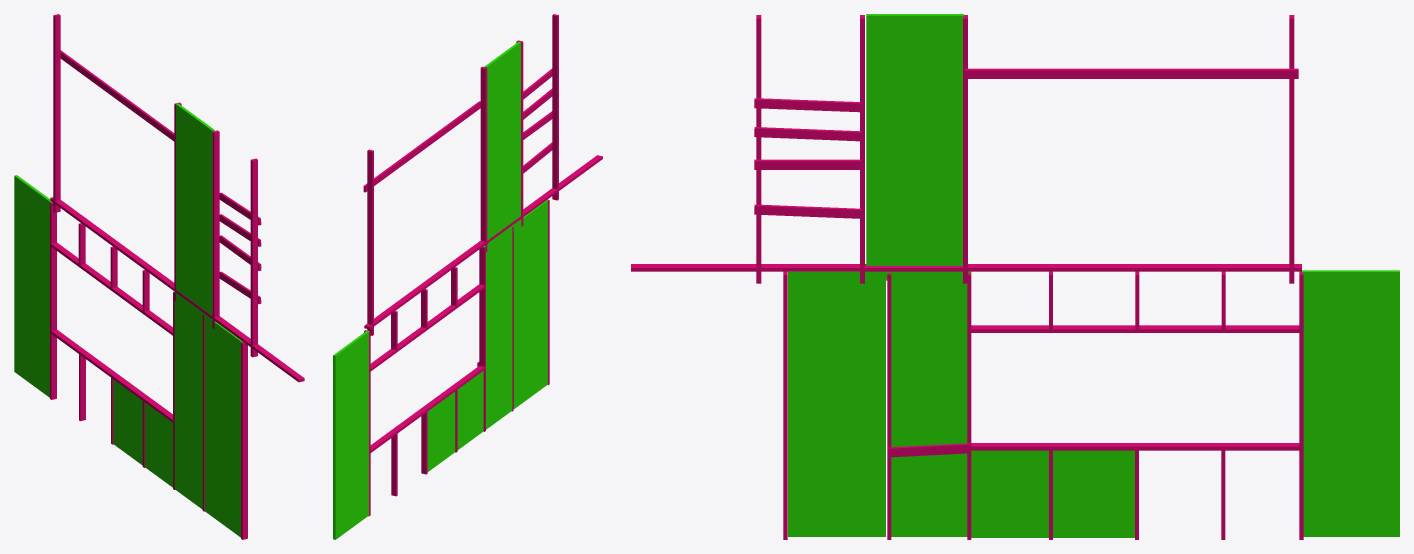
The model's file is BH04B_Wall_04_Break_B.fbx.
3 renders of one model, left to right at view 1: azimuth 30°, elevation 25°; view 2: azimuth 150°, elevation 25°; view 3: azimuth 270°, elevation 25°, orthographic. The views are drawn at different scales.
Visible parts, largest first — view 1: BH04B_Wall_04_Break_B; view 2: BH04B_Wall_04_Break_B; view 3: BH04B_Wall_04_Break_B.
Part boxes in pixels (<box>): BH04B_Wall_04_Break_B: <box>14,14,304,539</box>; BH04B_Wall_04_Break_B: <box>333,14,602,539</box>; BH04B_Wall_04_Break_B: <box>631,14,1399,539</box>.
Bounding box in the file's own units: 12.91 × 592 × 789.
